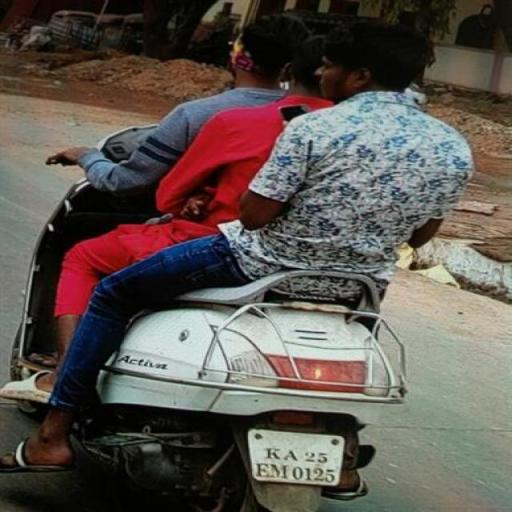tripple riding: (32, 8, 482, 272)
